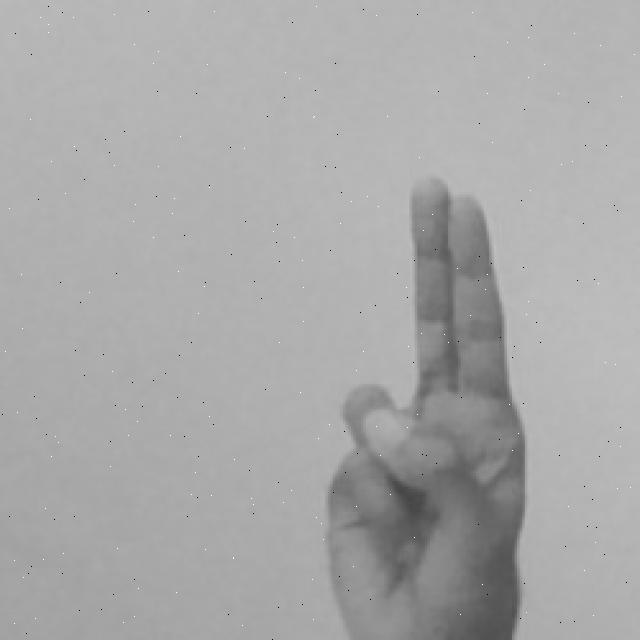U: (322, 174, 532, 640)
